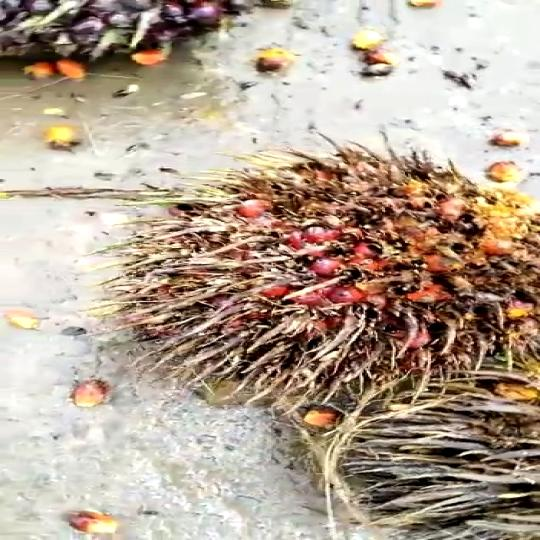terlalu masak: (99, 127, 540, 444)
